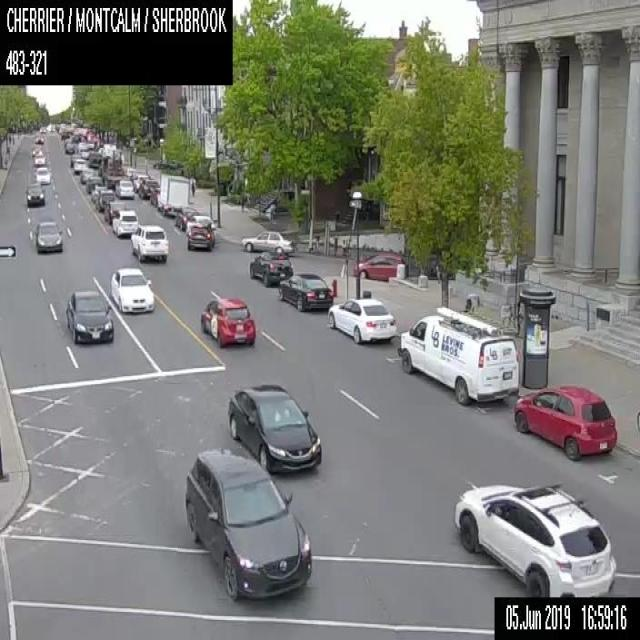pedestrian: (190, 178, 194, 196)
vehicle: (452, 480, 617, 596), (186, 448, 311, 600), (397, 306, 518, 404), (227, 383, 321, 473), (514, 385, 618, 460), (327, 297, 396, 343), (199, 295, 256, 349), (63, 287, 114, 345), (107, 266, 155, 314), (279, 272, 333, 311), (249, 250, 292, 286), (354, 250, 404, 278), (156, 173, 188, 215), (131, 224, 167, 261), (241, 231, 293, 255), (98, 150, 127, 188), (33, 220, 62, 253), (187, 221, 215, 250), (111, 209, 138, 236), (185, 214, 215, 238), (175, 204, 198, 230), (94, 189, 114, 211), (104, 200, 124, 222), (25, 183, 44, 205), (138, 178, 158, 198), (115, 179, 134, 198), (34, 166, 50, 184), (132, 174, 148, 192), (91, 184, 106, 202), (85, 176, 101, 192), (152, 158, 173, 170), (86, 151, 102, 166), (80, 168, 94, 182), (149, 187, 159, 205), (74, 158, 86, 172), (124, 167, 137, 179), (33, 152, 45, 164), (76, 146, 87, 158), (31, 144, 42, 156), (70, 153, 80, 165), (64, 142, 74, 152), (35, 135, 43, 143), (39, 126, 46, 132)
